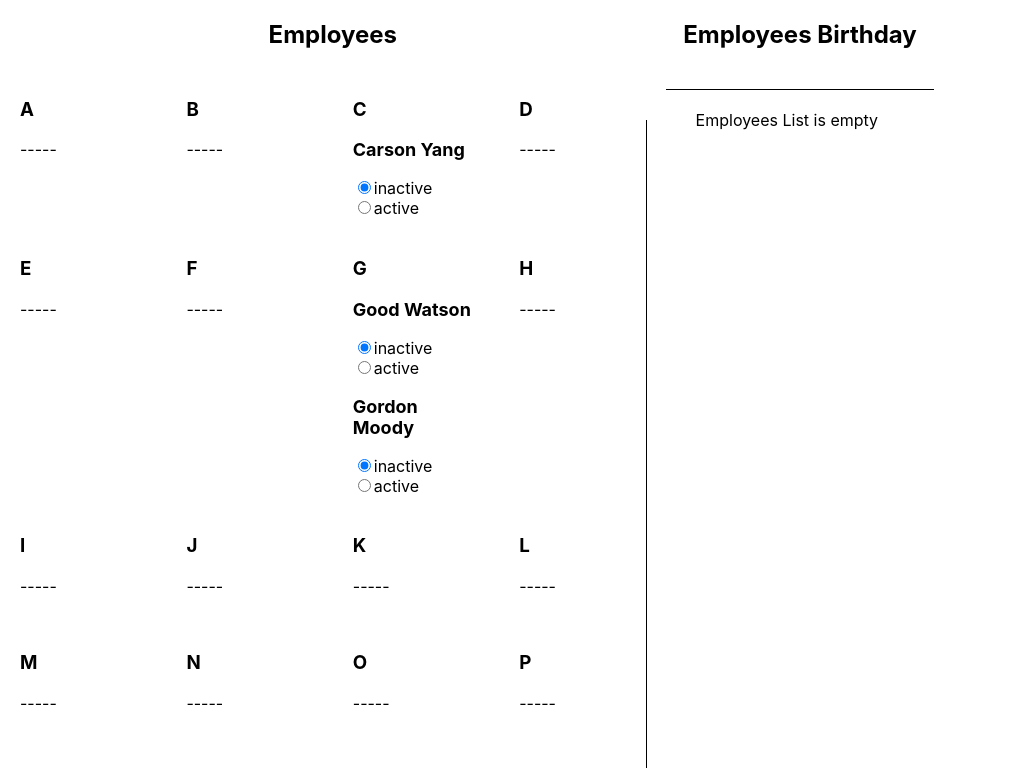
Test: moves employee to Bdays list when it gets selected as active
The width and height of the screenshot is (1024, 768).
Click the radio button labelled "active" below "Carson Yang".
click(364, 208)  # box [358,201,371,214]
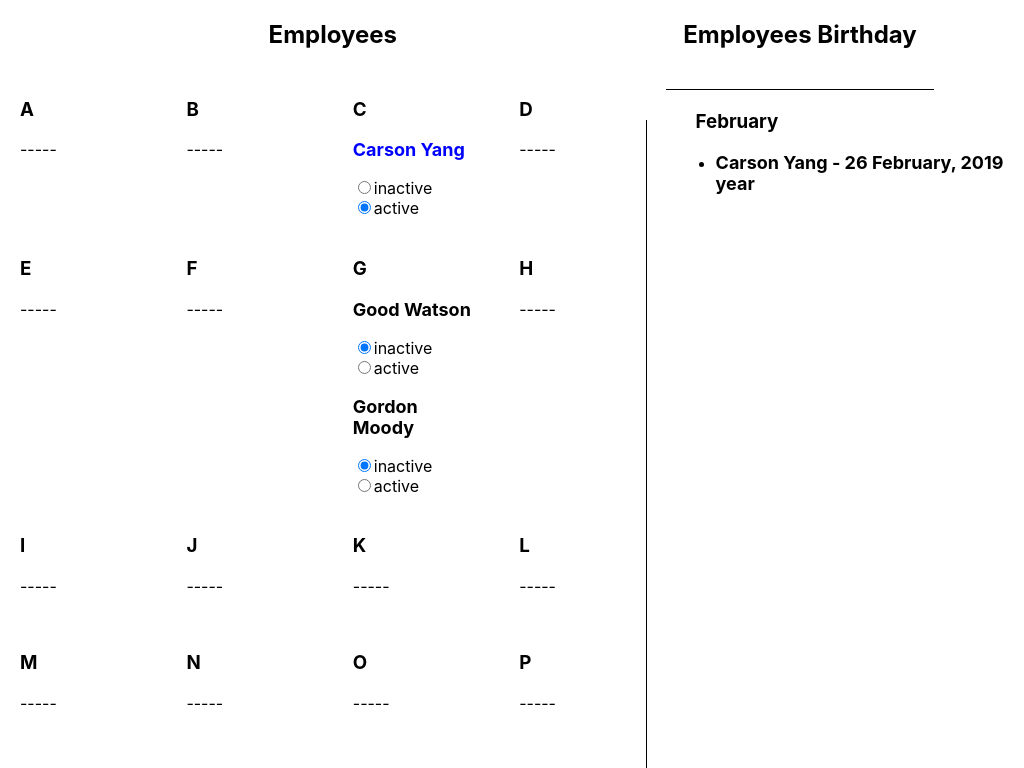
expect the heading "February" is shown: met, box [696,110,778,133]
Click the 1st radio button labelled "inactive".
click(364, 188)  # box [358,181,371,194]
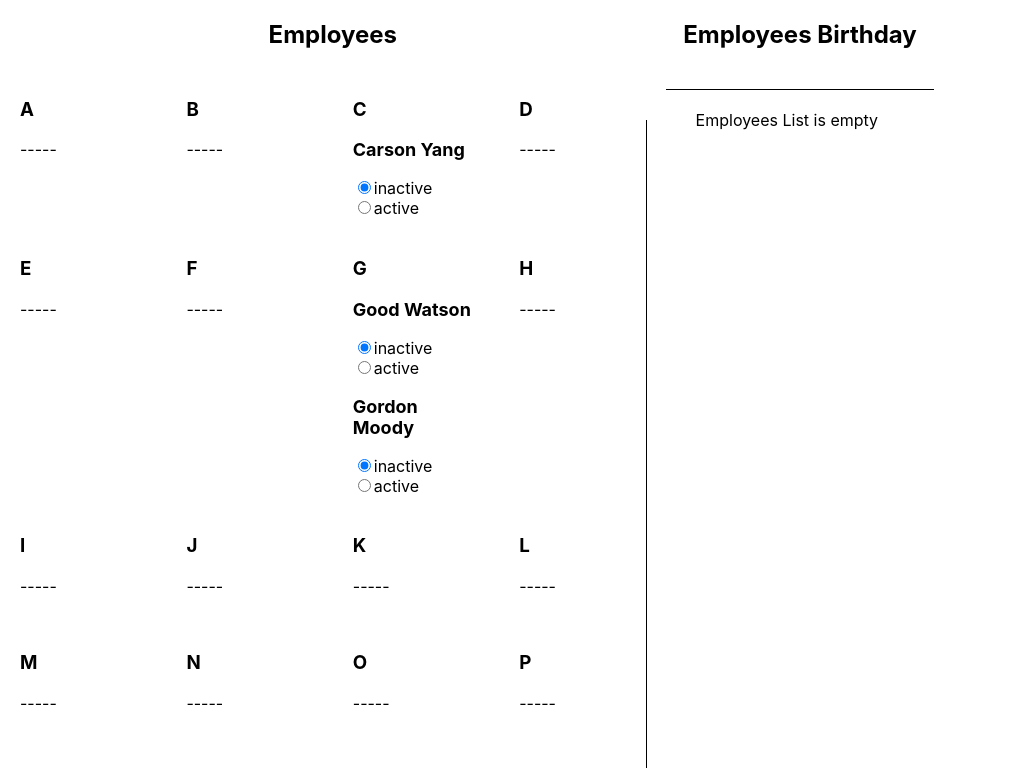
expect the heading "February" is gone: met
